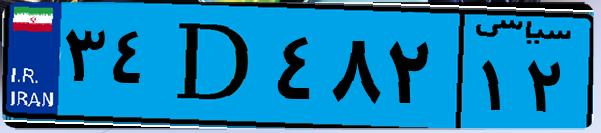1: (475, 38, 525, 113)
2: (385, 28, 445, 110), (525, 38, 570, 115)
3: (57, 26, 110, 100)
4: (270, 28, 330, 110), (110, 28, 158, 98)
8: (330, 28, 385, 110)
D: (158, 12, 270, 120)
